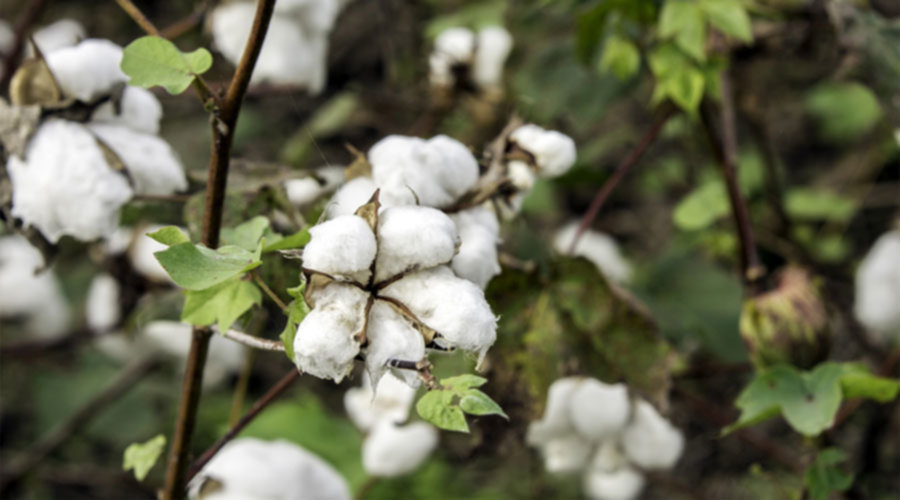cotton: (263, 108, 581, 451), (11, 23, 197, 261)
